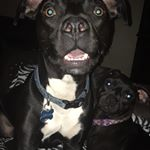puppy: (18, 1, 121, 79), (91, 69, 148, 119)
